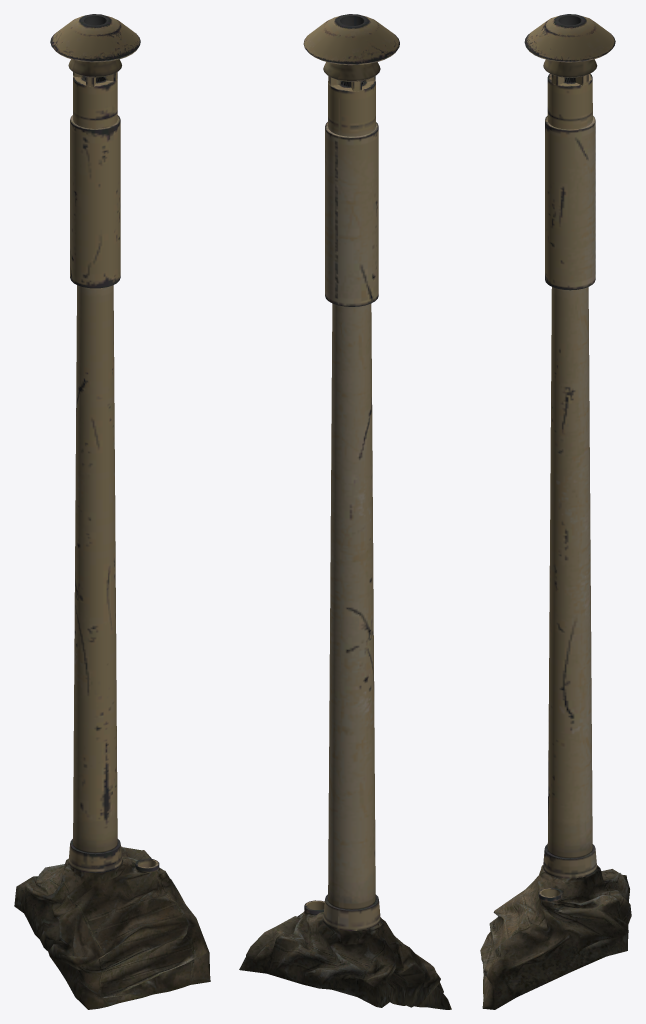
File: Gun_01.glb
The picture shows the model from 3 angles, left to right: view 1: azimuth 30°, elevation 25°; view 2: azimuth 150°, elevation 25°; view 3: azimuth 270°, elevation 25°; orthographic projection. The views are drawn at different scales.
Parts seen in each view (by area): view 1: set_0_group_0; view 2: set_0_group_0; view 3: set_0_group_0.
Boxes of the visible parts, box(x1,y1,x2,y2) form: set_0_group_0: box(14, 14, 210, 1009); set_0_group_0: box(239, 14, 451, 1009); set_0_group_0: box(480, 14, 631, 1009).
Size of the model in its own units: 0.7644 by 5.15 by 0.7413.
Materials: 1 (1 with a texture image).
